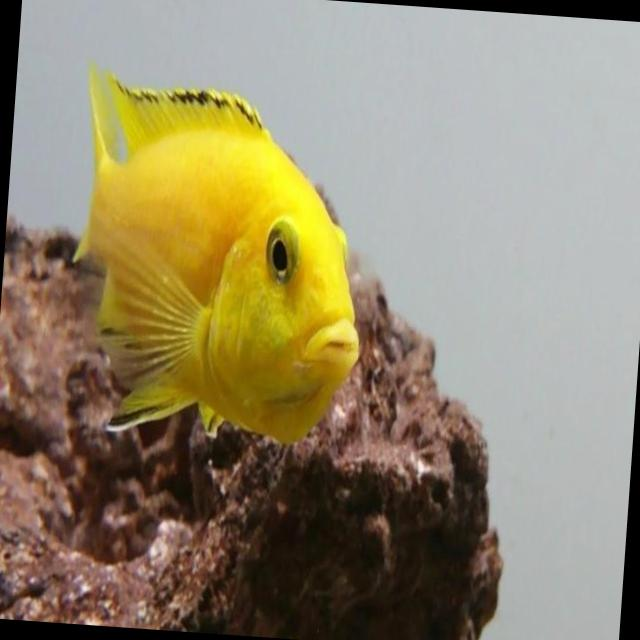YellowCichlid: (30, 38, 385, 471)
